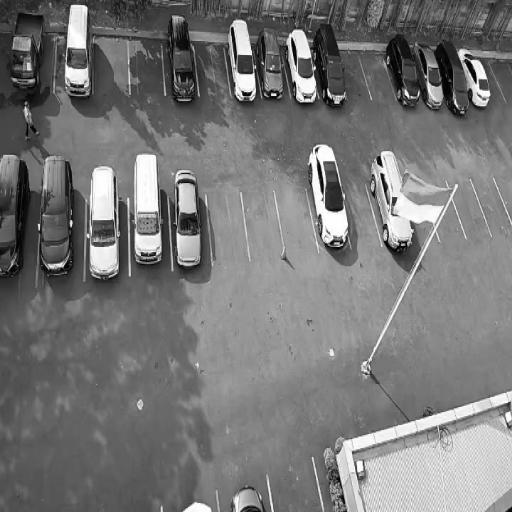Car: (363, 146, 416, 258), (303, 142, 353, 253), (85, 159, 127, 282), (37, 149, 76, 281), (129, 141, 165, 268), (170, 164, 208, 278), (0, 147, 30, 283), (309, 19, 351, 112), (8, 6, 46, 102), (381, 29, 424, 110), (432, 37, 475, 114), (60, 0, 92, 101), (224, 16, 261, 102), (164, 10, 197, 106), (281, 28, 321, 106), (410, 37, 448, 110), (455, 46, 494, 113), (254, 22, 287, 101), (226, 482, 264, 512), (179, 499, 213, 512)
Space Available: (267, 455, 324, 512), (240, 189, 286, 259), (206, 189, 249, 263), (274, 187, 319, 252), (446, 179, 493, 240), (342, 181, 382, 249), (471, 175, 512, 239), (93, 33, 131, 93), (128, 36, 164, 97), (193, 40, 230, 98), (358, 50, 396, 101), (339, 49, 371, 103), (479, 55, 506, 102), (487, 58, 512, 104)
